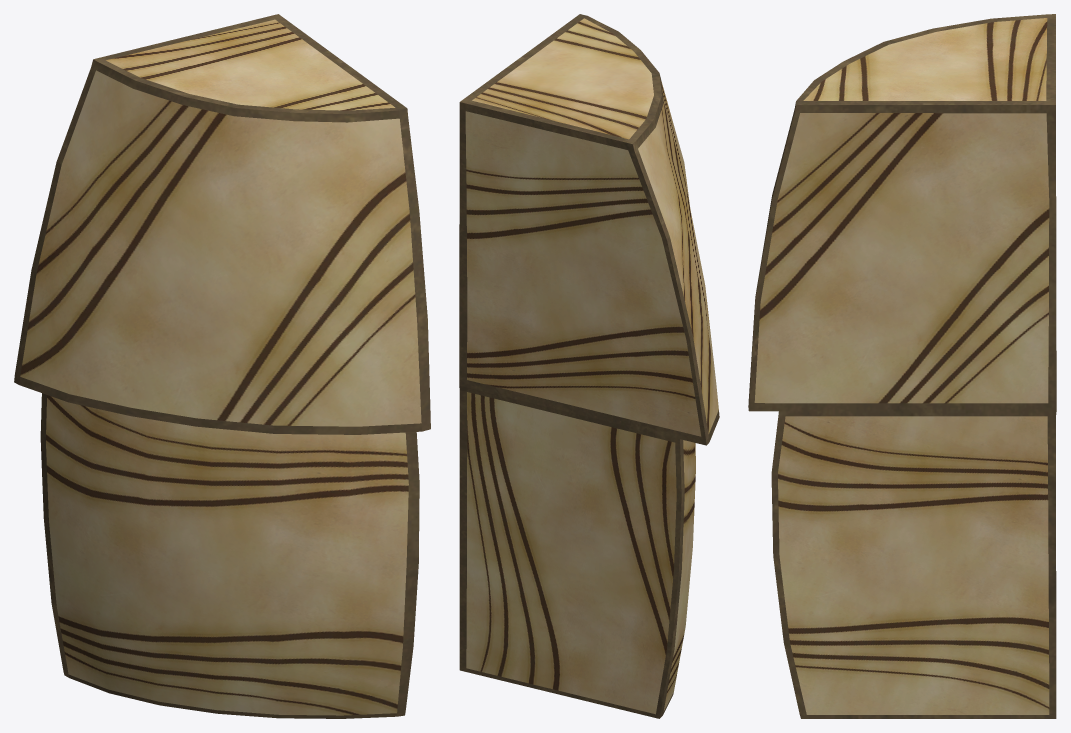
Rendered from nt_2020_light_sculpture_LOD0.obj.
3 renders of one model, left to right at view 1: azimuth 30°, elevation 25°; view 2: azimuth 150°, elevation 25°; view 3: azimuth 270°, elevation 25°, orthographic. The views are drawn at different scales.
Visible parts, largest first — view 1: mtl_p6_light_karma_sculpture, dub_gold_shiny_01; view 2: mtl_p6_light_karma_sculpture, dub_gold_shiny_01; view 3: mtl_p6_light_karma_sculpture, dub_gold_shiny_01.
Part boxes in pixels (x1,y1,x2,y2): mtl_p6_light_karma_sculpture: (20,19,421,715); dub_gold_shiny_01: (14,14,430,718); mtl_p6_light_karma_sculpture: (465,18,718,714); dub_gold_shiny_01: (459,14,719,718); mtl_p6_light_karma_sculpture: (754,18,1049,714); dub_gold_shiny_01: (748,14,1056,718).
Bounding box in the file's own units: 102 × 224 × 102.
